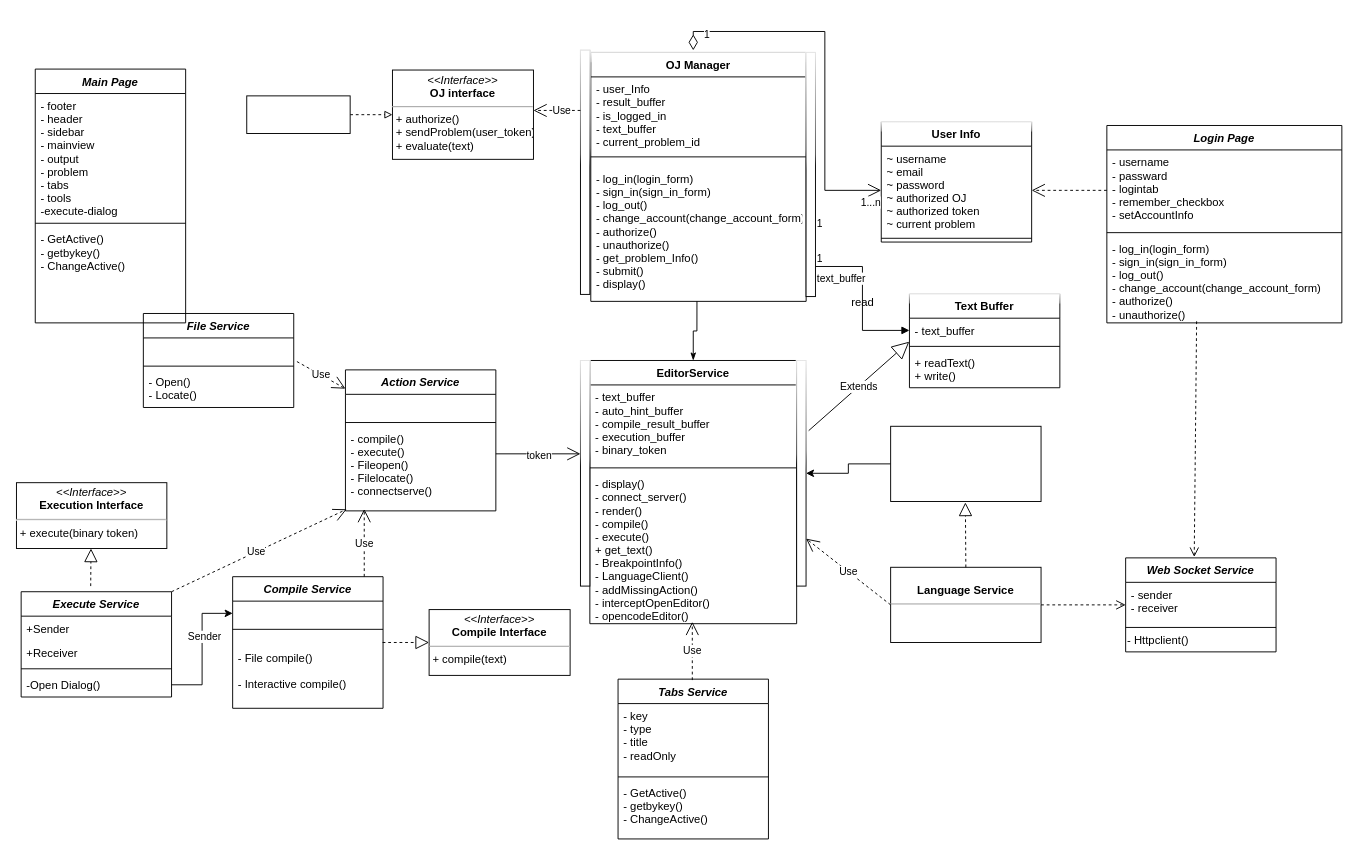
Image size: 1358x858. Some labels were removed from this diagram. The shapes that lost their labels are listed below. From the top down, each one's centre as x and y in pixels, then its label:
the point at 298,114: OJ Adaptor
the point at 965,463: <<Interface>> Language Interface + connect() + render(text)
